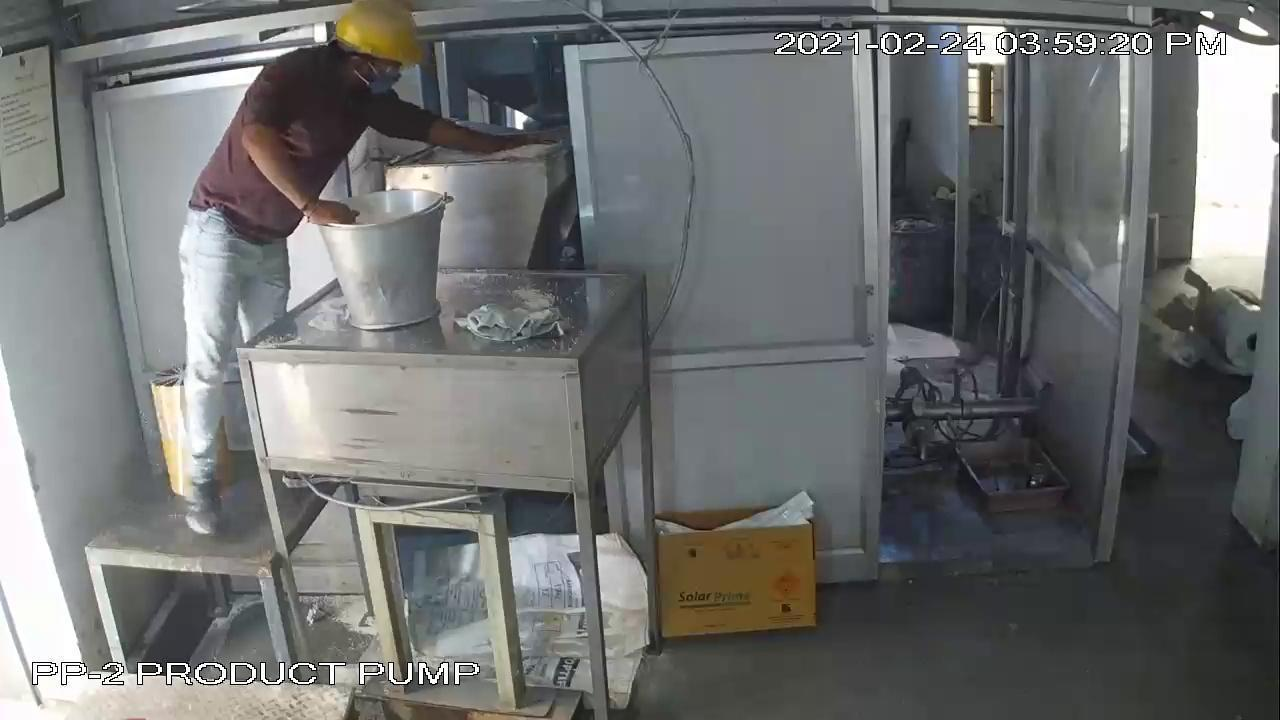helmet: (328, 4, 441, 75)
